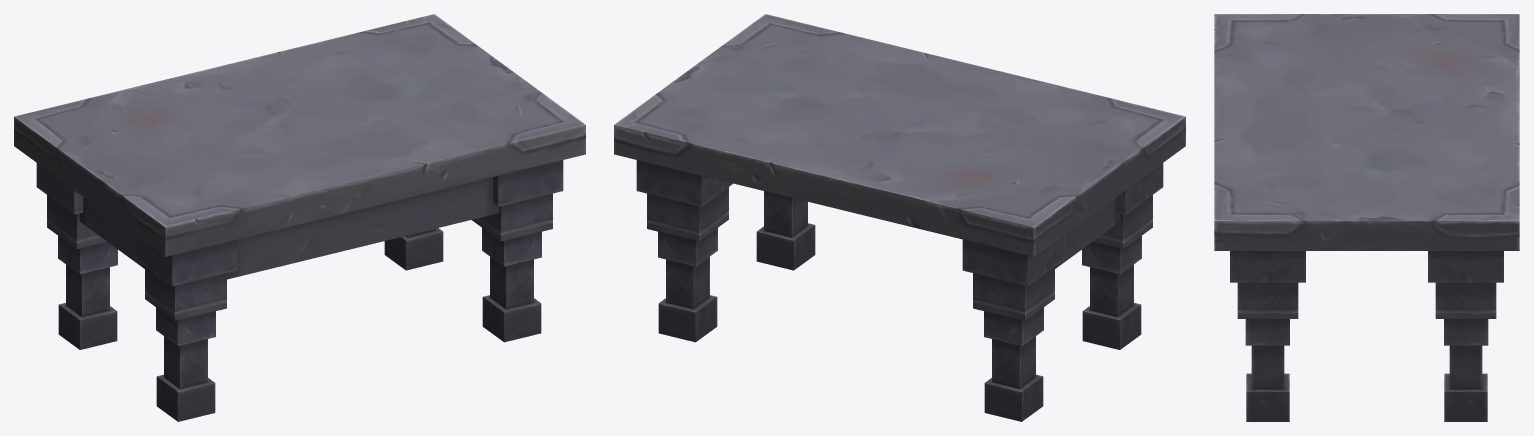
The model's file is Stage_DiXiaCheng_ShiZhuo.FBX.
3 views of the same model, side by side, from view 1: azimuth 30°, elevation 25°; view 2: azimuth 150°, elevation 25°; view 3: azimuth 270°, elevation 25° (orthographic).
Parts seen in each view (by area): view 1: Stage_DiXiaCheng_ShiZhuo; view 2: Stage_DiXiaCheng_ShiZhuo; view 3: Stage_DiXiaCheng_ShiZhuo.
Part boxes in pixels (bbox=[...]): Stage_DiXiaCheng_ShiZhuo: bbox=[14, 14, 585, 421]; Stage_DiXiaCheng_ShiZhuo: bbox=[614, 14, 1185, 421]; Stage_DiXiaCheng_ShiZhuo: bbox=[1214, 14, 1519, 421].
Bounding box in the file's own units: 282 × 137 × 176.
